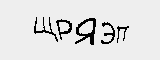П: (117, 24, 129, 44)
Р: (56, 15, 72, 43)
Щ: (32, 15, 55, 39)
Э: (99, 21, 115, 43)
Я: (73, 15, 96, 45)
